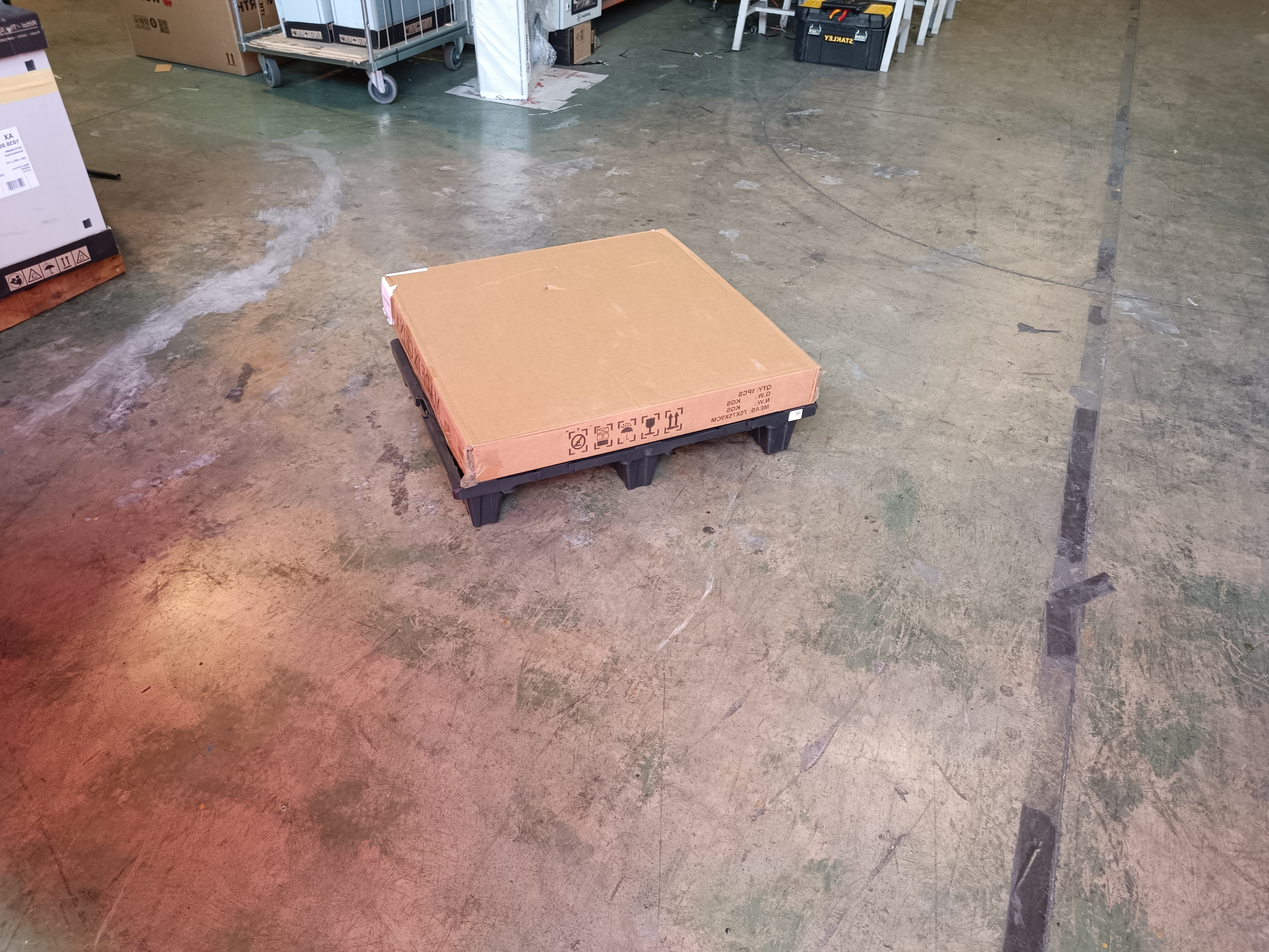block: (757, 415, 797, 461), (622, 453, 664, 492), (470, 496, 506, 532)
front: (465, 403, 816, 529)
hole pallet: (500, 468, 628, 524), (647, 428, 769, 483)
